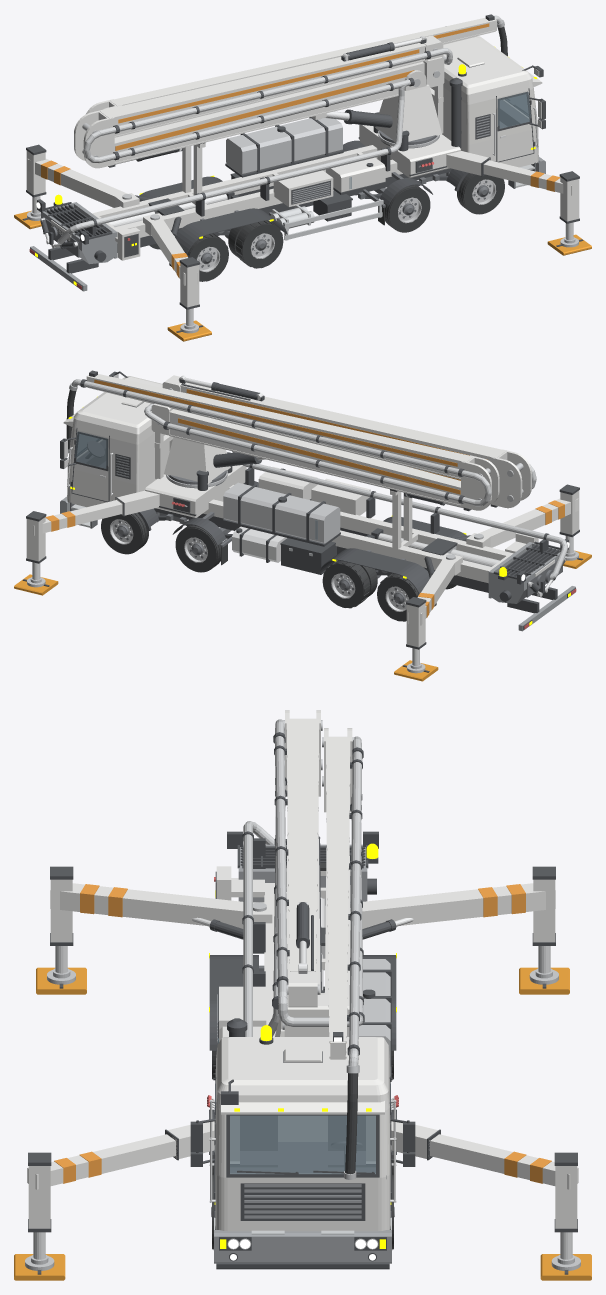
The model's file is Concrete_Boom_Pump_38m.glb.
3 views of the same model, one above another, from view 1: azimuth 30°, elevation 25°; view 2: azimuth 150°, elevation 25°; view 3: azimuth 270°, elevation 25° (orthographic). The views are drawn at different scales.
Visible parts, largest first — view 1: body, cab, delivery_line, boom_section_2, boom_section_1, tyres, black_trim, outrigger_beams, water_tank, boom_section_4, boom_stripes, mudguards (+23 smaller); view 2: body, delivery_line, cab, boom_section_3, boom_section_4, tyres, black_trim, water_tank, outrigger_beams, boom_stripes, boom_knuckles, boom_section_2 (+19 smaller); view 3: cab, outrigger_beams, delivery_line, cab_trim, glass, boom_section_4, boom_section_2, cab_interior, outrigger_legs, bumper, outrigger_pads, black_trim (+16 smaller).
Boxes of the visible parts, box(x1,y1,x2,y2) form: body: box(92, 84, 460, 237); cab: box(431, 36, 542, 167); delivery_line: box(57, 15, 502, 245); boom_section_2: box(98, 43, 425, 137); boom_section_1: box(114, 61, 424, 164); tyres: box(149, 173, 504, 281); black_trim: box(22, 14, 583, 332); outrigger_beams: box(27, 151, 572, 285); water_tank: box(226, 118, 342, 174); boom_section_4: box(109, 17, 496, 107); boom_stripes: box(115, 23, 489, 150); mudguards: box(139, 140, 432, 254); body: box(145, 432, 513, 583); delivery_line: box(71, 379, 567, 579); cab: box(63, 376, 169, 507); boom_section_3: box(168, 409, 460, 506); boom_section_4: box(86, 374, 474, 479); tyres: box(101, 513, 456, 621); black_trim: box(22, 370, 583, 672); water_tank: box(223, 482, 340, 543); outrigger_beams: box(33, 490, 578, 625); boom_stripes: box(94, 379, 487, 494); boom_knuckles: box(151, 375, 531, 510); boom_section_2: box(180, 382, 507, 461); cab: box(215, 1037, 390, 1231); outrigger_beams: box(27, 883, 578, 1189); delivery_line: box(243, 719, 363, 1066); cab_trim: box(190, 1018, 415, 1269); glass: box(215, 1084, 390, 1174); boom_section_4: box(326, 736, 350, 1059); boom_section_2: box(286, 718, 319, 971); cab_interior: box(219, 1116, 386, 1178); outrigger_legs: box(28, 879, 577, 1228); bumper: box(214, 1230, 391, 1263); outrigger_pads: box(14, 967, 591, 1280); black_trim: box(28, 831, 577, 1274).
Bounding box in the file's own units: 11.7 × 3.94 × 7.9.
